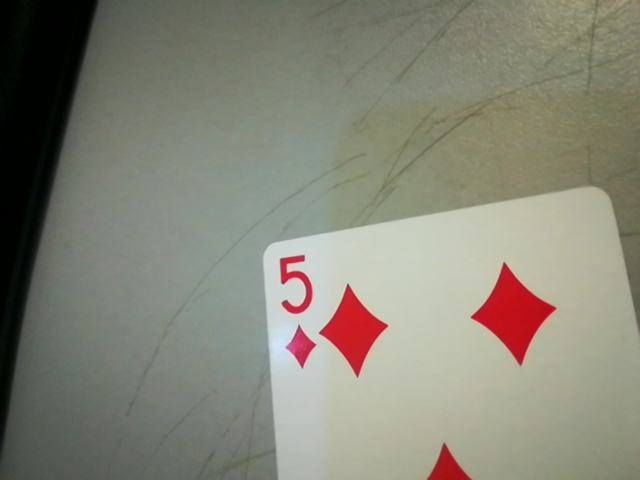fk 5: (263, 247, 323, 377)
